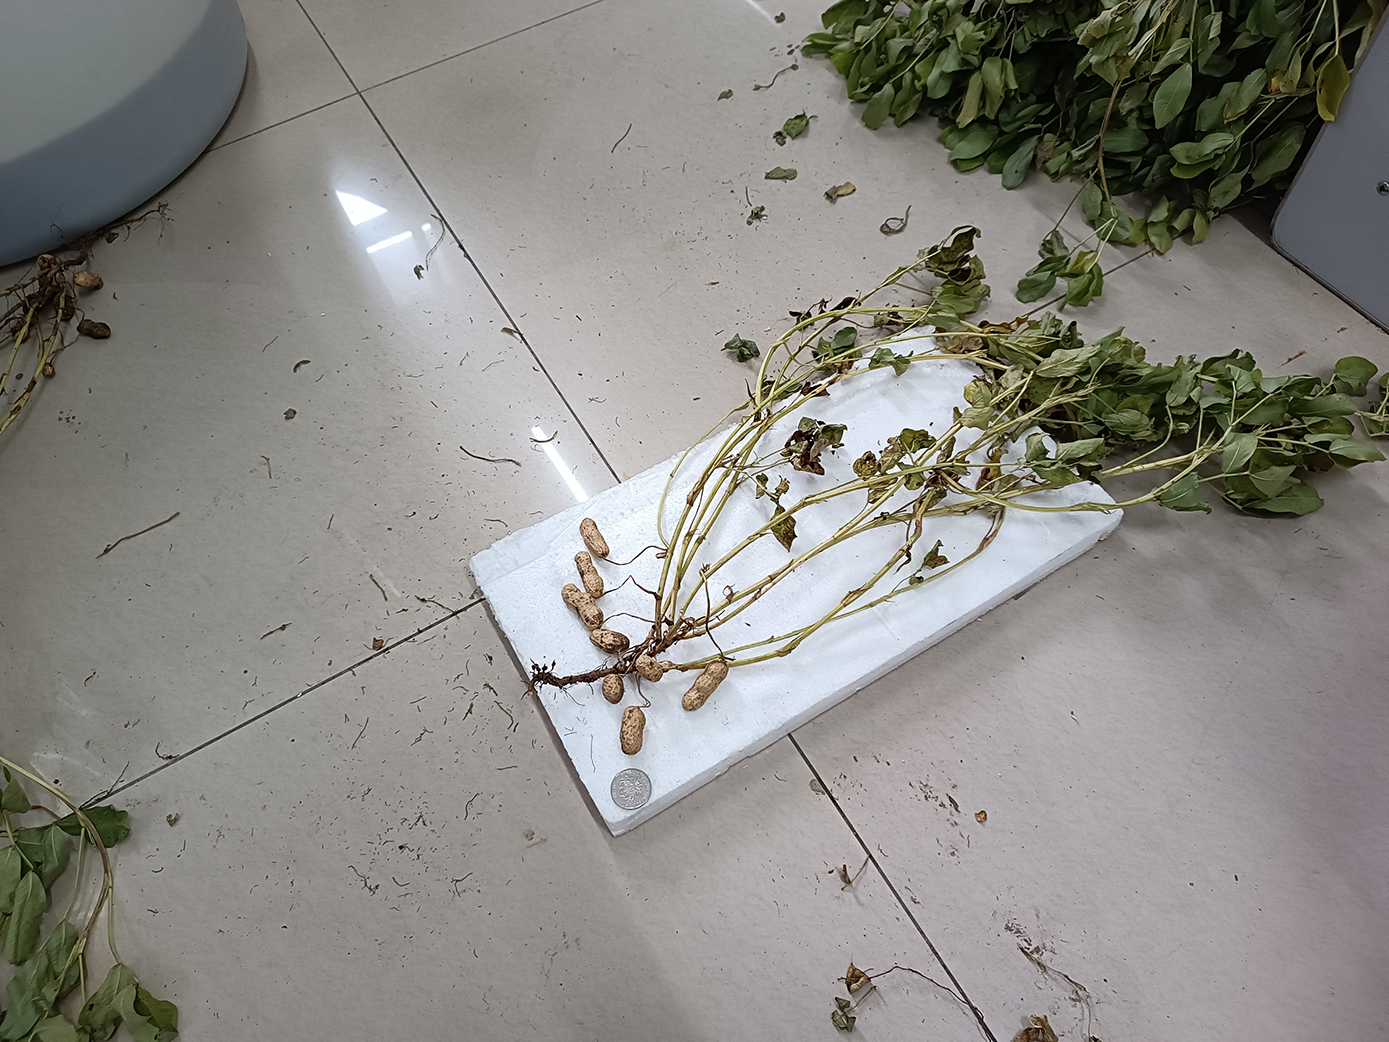h: (681, 659, 730, 713), (560, 584, 604, 630), (572, 552, 604, 598), (620, 706, 647, 757), (578, 516, 610, 557), (590, 627, 630, 653), (635, 656, 664, 682), (601, 674, 625, 705)
